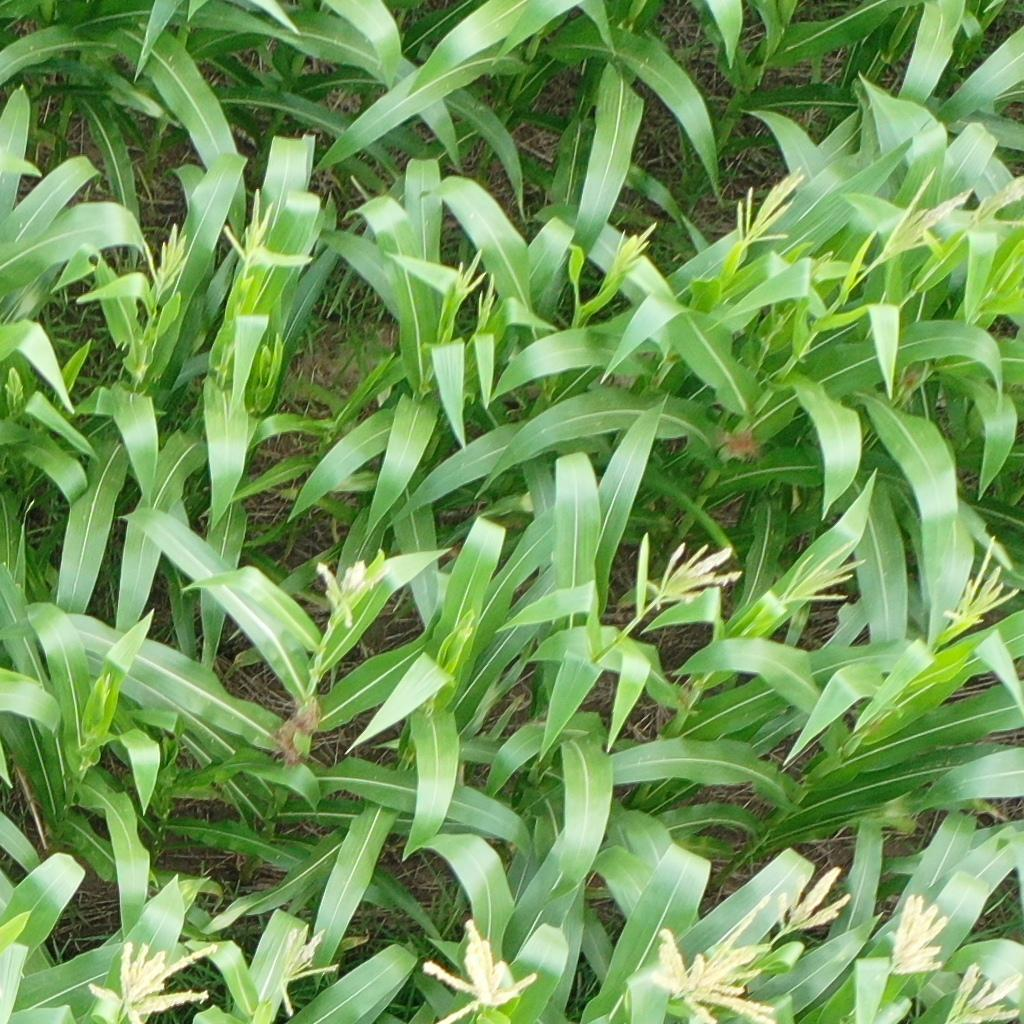Tassel: (651, 893, 777, 1024), (420, 919, 537, 1024), (84, 935, 216, 1024), (871, 171, 974, 265), (219, 186, 313, 277), (938, 532, 1022, 626), (636, 542, 743, 610), (732, 163, 807, 248), (779, 538, 871, 607), (275, 922, 336, 1019), (774, 864, 853, 937), (312, 558, 383, 637), (884, 892, 949, 976), (945, 959, 1023, 1024), (141, 222, 190, 299), (969, 176, 1024, 231), (609, 220, 659, 276), (450, 247, 487, 298), (478, 273, 499, 336), (807, 249, 836, 279), (4, 364, 24, 397), (459, 614, 477, 647), (99, 672, 116, 698)
